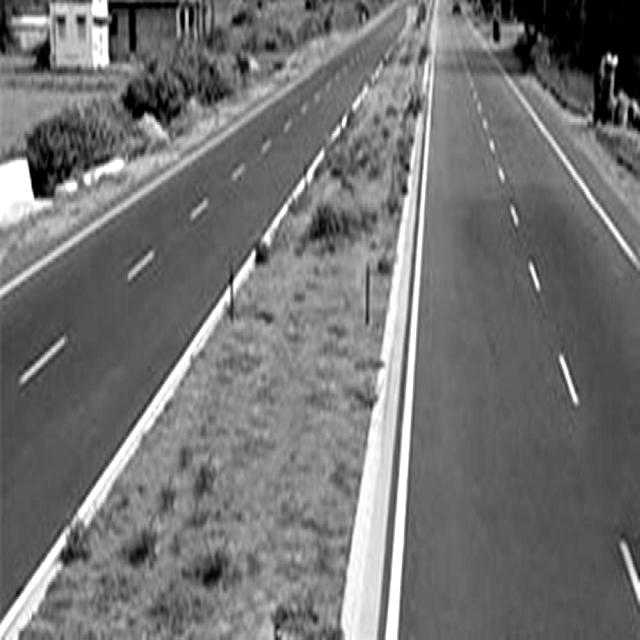cleat: (16, 29, 624, 531)
